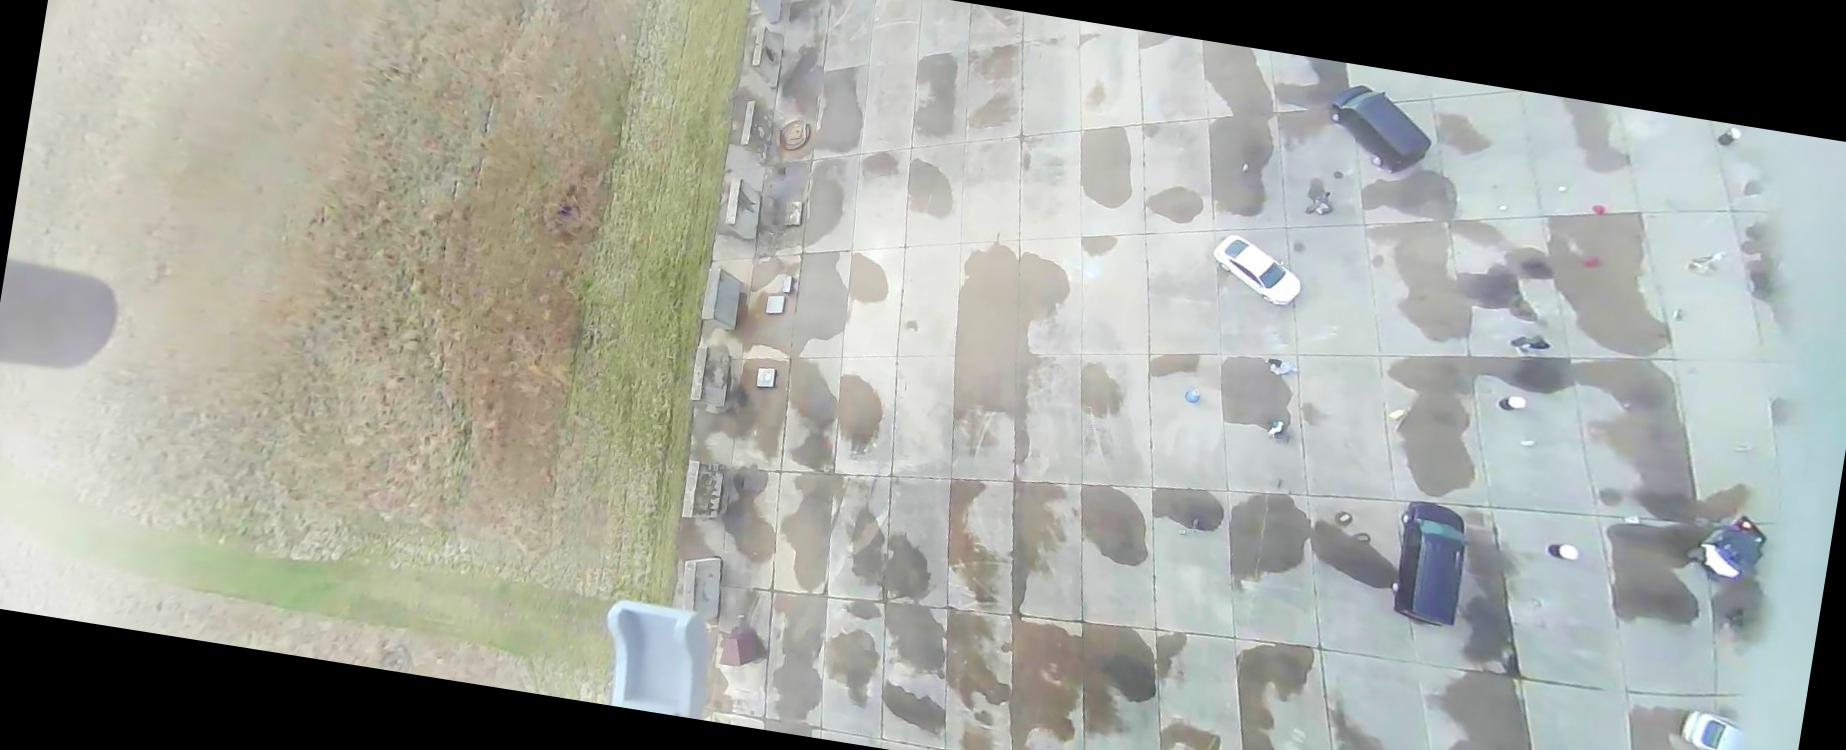vehicle: (1320, 80, 1440, 179), (1386, 498, 1474, 629), (1207, 231, 1309, 308), (1696, 509, 1771, 582), (1676, 706, 1749, 749)
